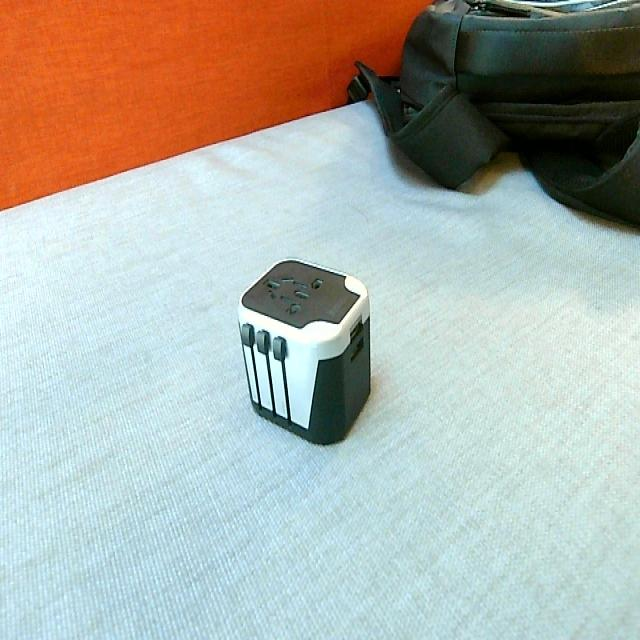adapter: (236, 256, 372, 445)
